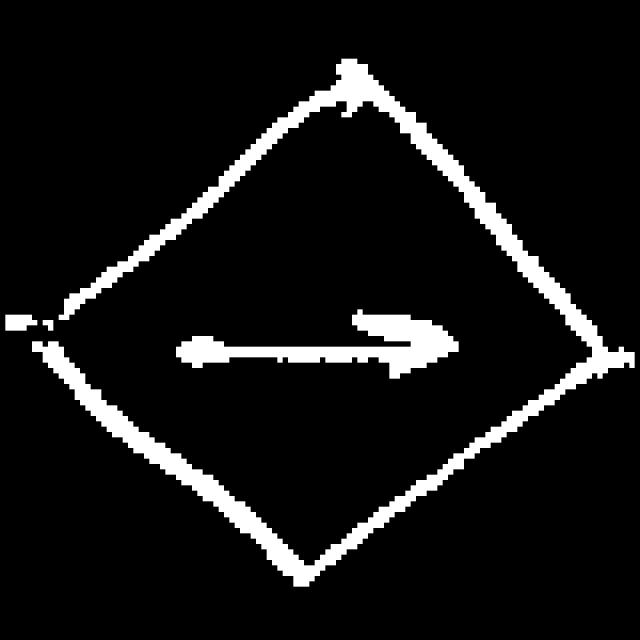dependant_current: (29, 62, 596, 598)
